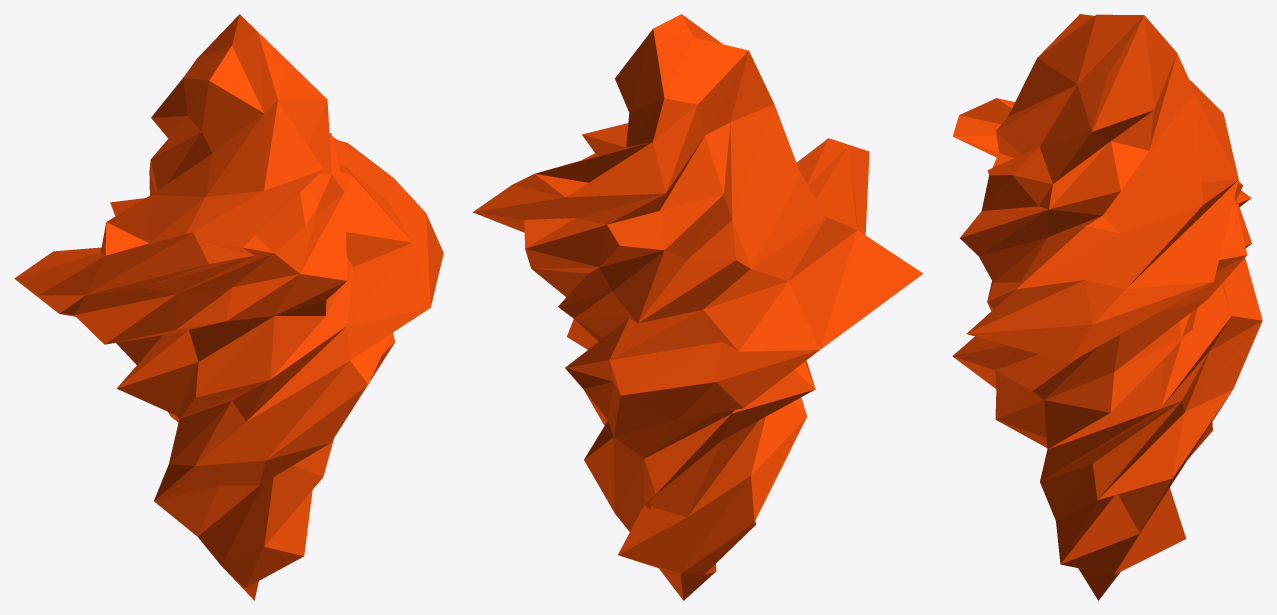
File: Crystal_048.fbx
3 renders of one model, left to right at view 1: azimuth 30°, elevation 25°; view 2: azimuth 150°, elevation 25°; view 3: azimuth 270°, elevation 25°, orthographic. The views are drawn at different scales.
Parts seen in each view (by area): view 1: Crystal.048; view 2: Crystal.048; view 3: Crystal.048.
Boxes of the visible parts, box(x1,y1,x2,y2) form: Crystal.048: box(14, 14, 443, 600); Crystal.048: box(473, 14, 923, 600); Crystal.048: box(952, 14, 1262, 600).
Size of the model in its own units: 326 by 443 by 211.
